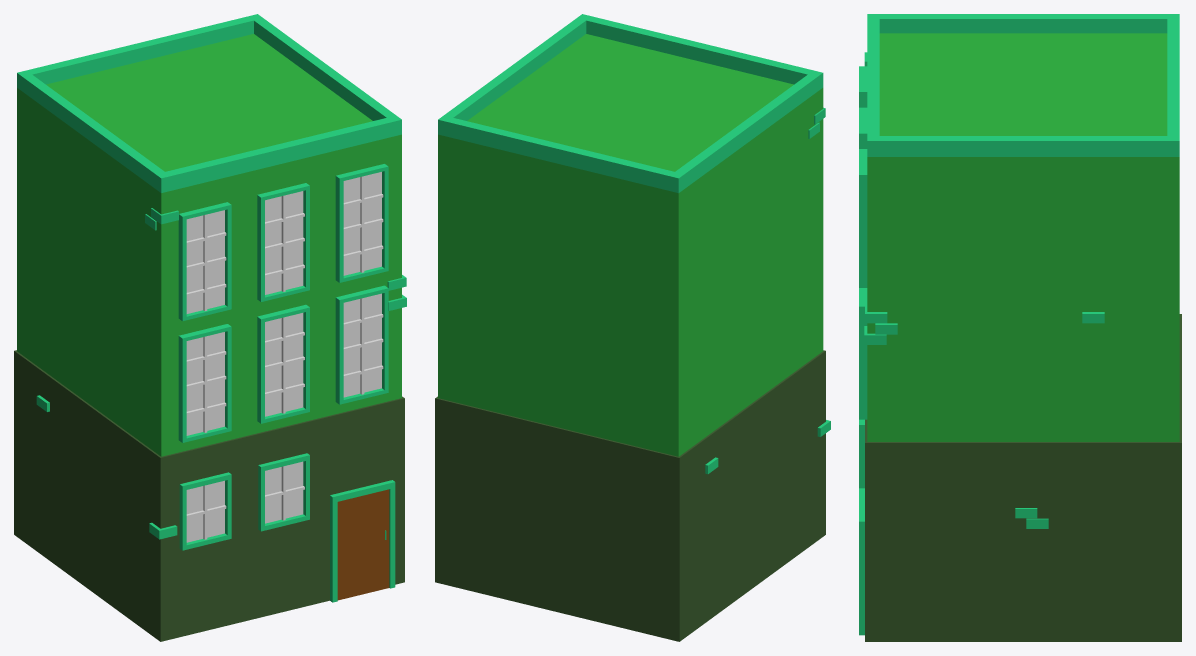
Rendered from niceBuildingGreen.fbx.
3 views of the same model, side by side, from view 1: azimuth 30°, elevation 25°; view 2: azimuth 150°, elevation 25°; view 3: azimuth 270°, elevation 25° (orthographic). The views are drawn at different scales.
Visible parts, largest first — view 1: Cube; view 2: Cube; view 3: Cube.
Boxes of the visible parts, x1,y1,x2,y2 form: Cube: (14,14,406,641); Cube: (435,14,830,641); Cube: (859,14,1181,641).
Bounding box in the file's own units: 384 × 681 × 398.
